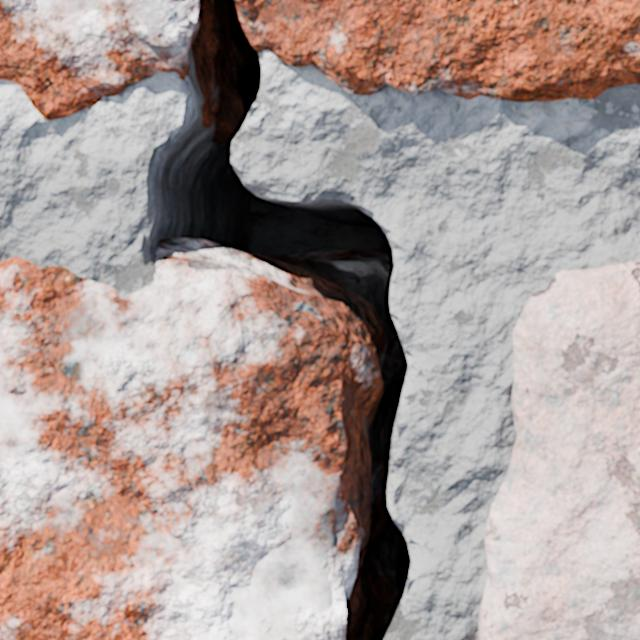broken_brick: (235, 0, 639, 101), (0, 0, 198, 119)
crack: (0, 0, 416, 639), (478, 260, 639, 639)
